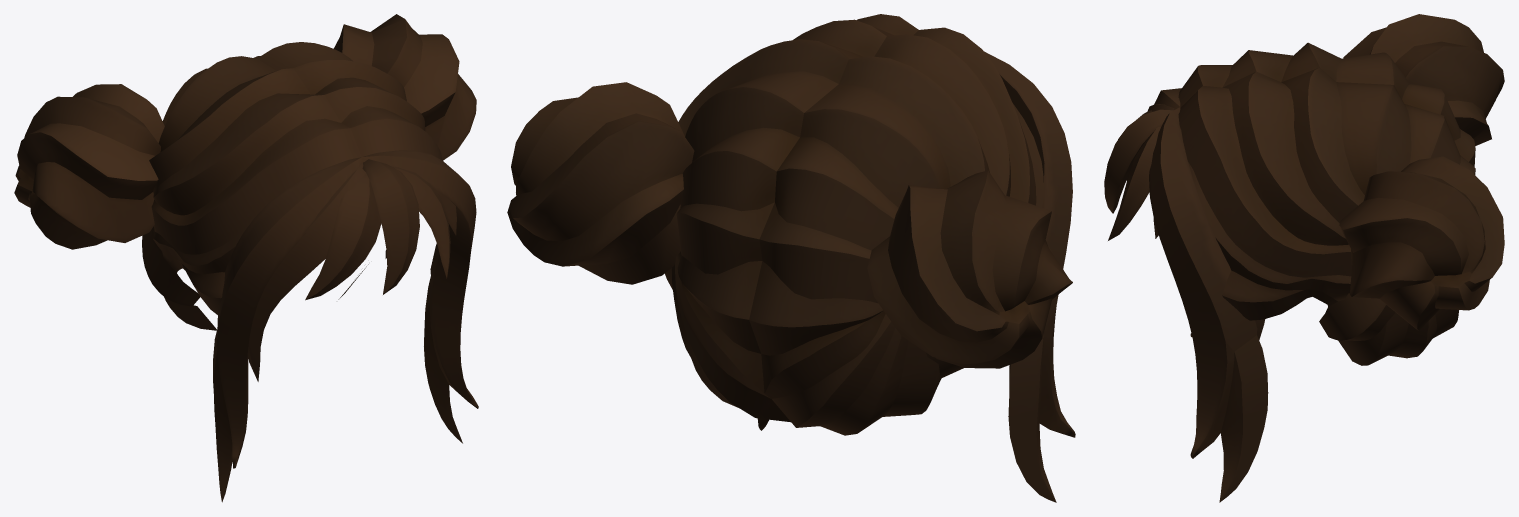
File: buns.glb
The picture shows the model from 3 angles, left to right: view 1: azimuth 30°, elevation 25°; view 2: azimuth 150°, elevation 25°; view 3: azimuth 270°, elevation 25°; orthographic projection. The views are drawn at different scales.
Visible parts, largest first — view 1: buns; view 2: buns; view 3: buns.
Part boxes in pixels (x1,y1,x2,y2): buns: [14, 14, 478, 502]; buns: [507, 14, 1075, 502]; buns: [1104, 14, 1504, 502].
Bounding box in the file's own units: 0.3015 × 0.2482 × 0.237.
1 material, 1 textured.
